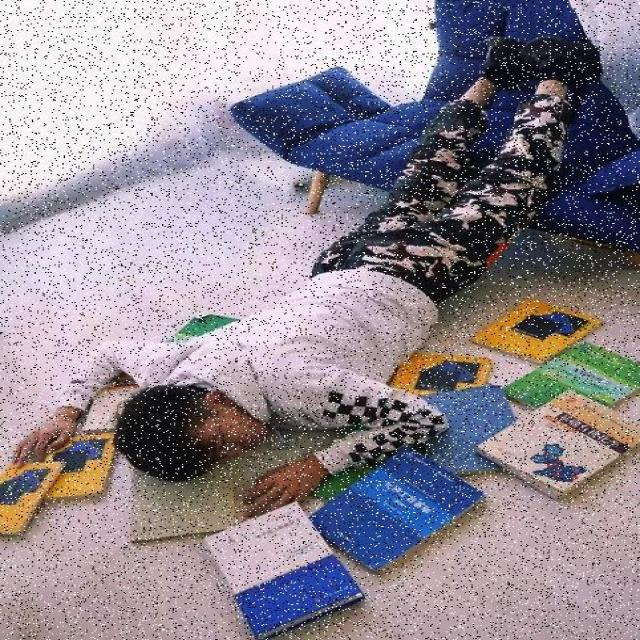fall: (45, 62, 579, 478)
